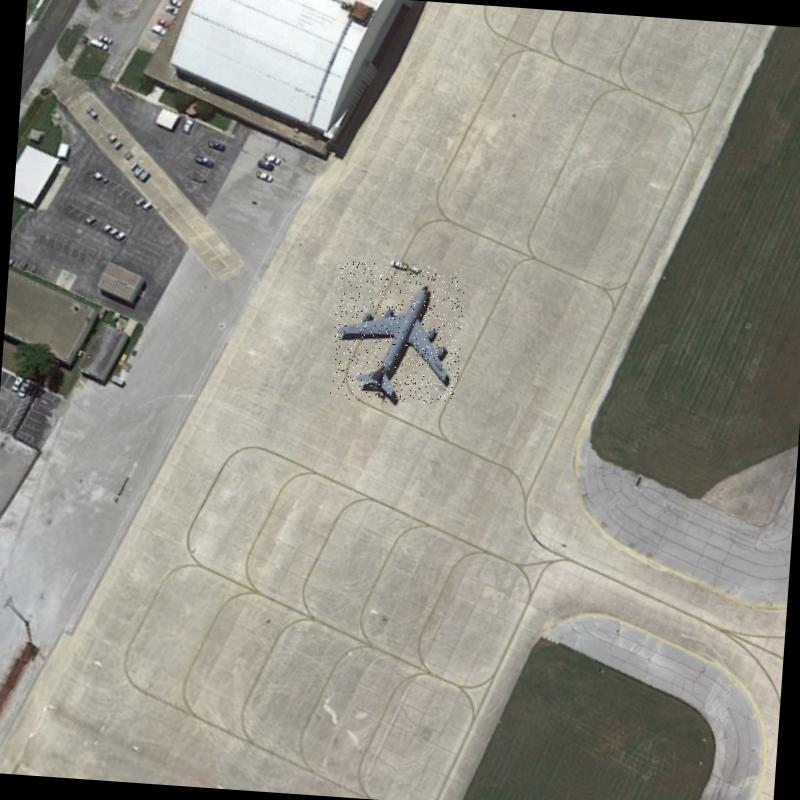A14: (329, 259, 465, 407)
